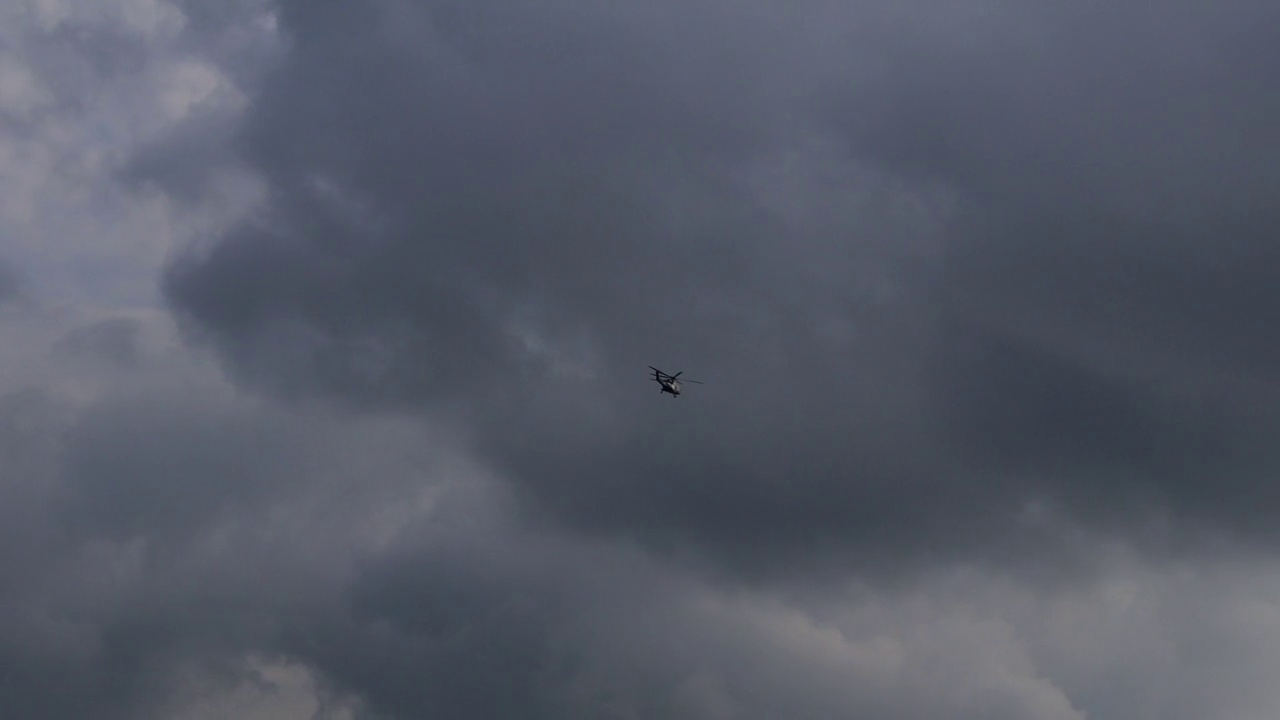heli: (648, 362, 704, 399)
